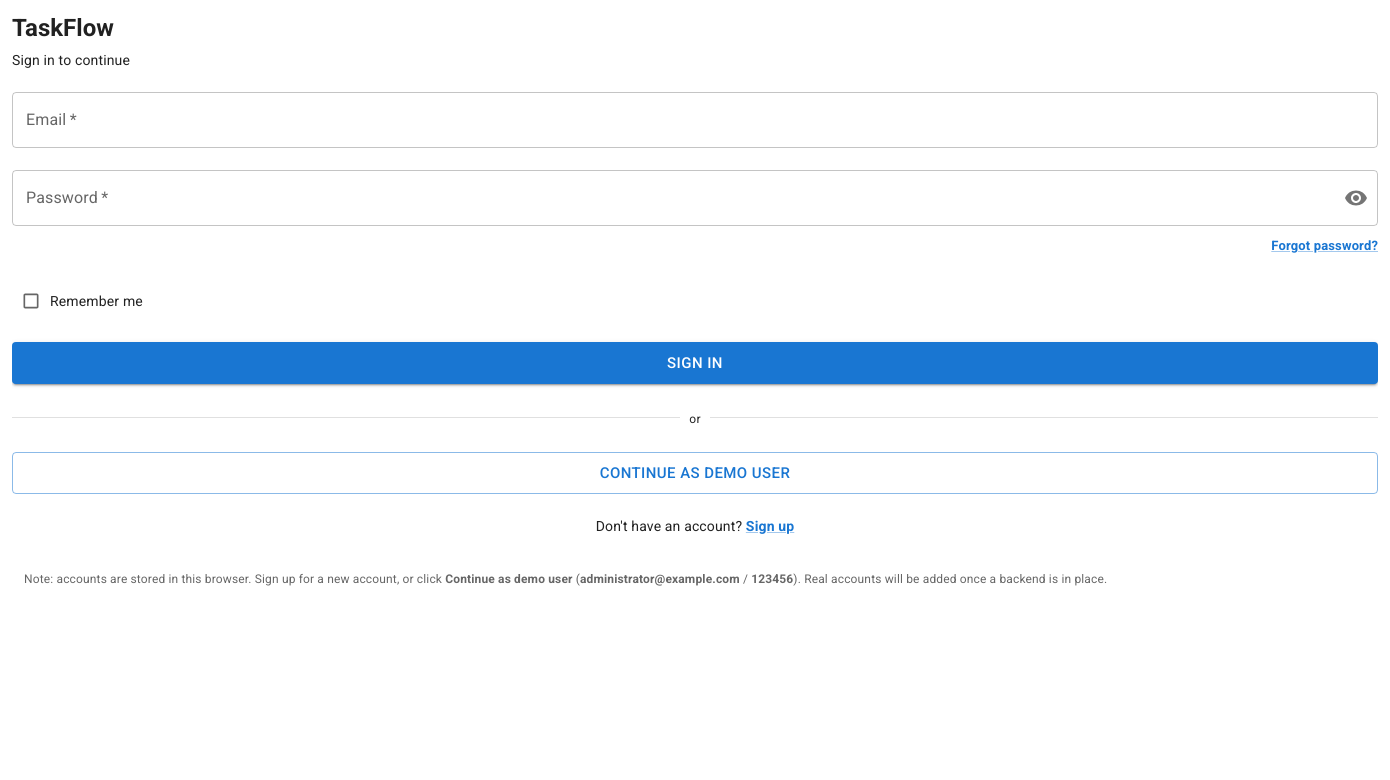
it: LoginForm › shows an error and stays on the page when the password is wrong
Type "administrator@example.com" into the field with test id "login-form-email" at (695, 120), box left=12, top=92, right=1378, bottom=148
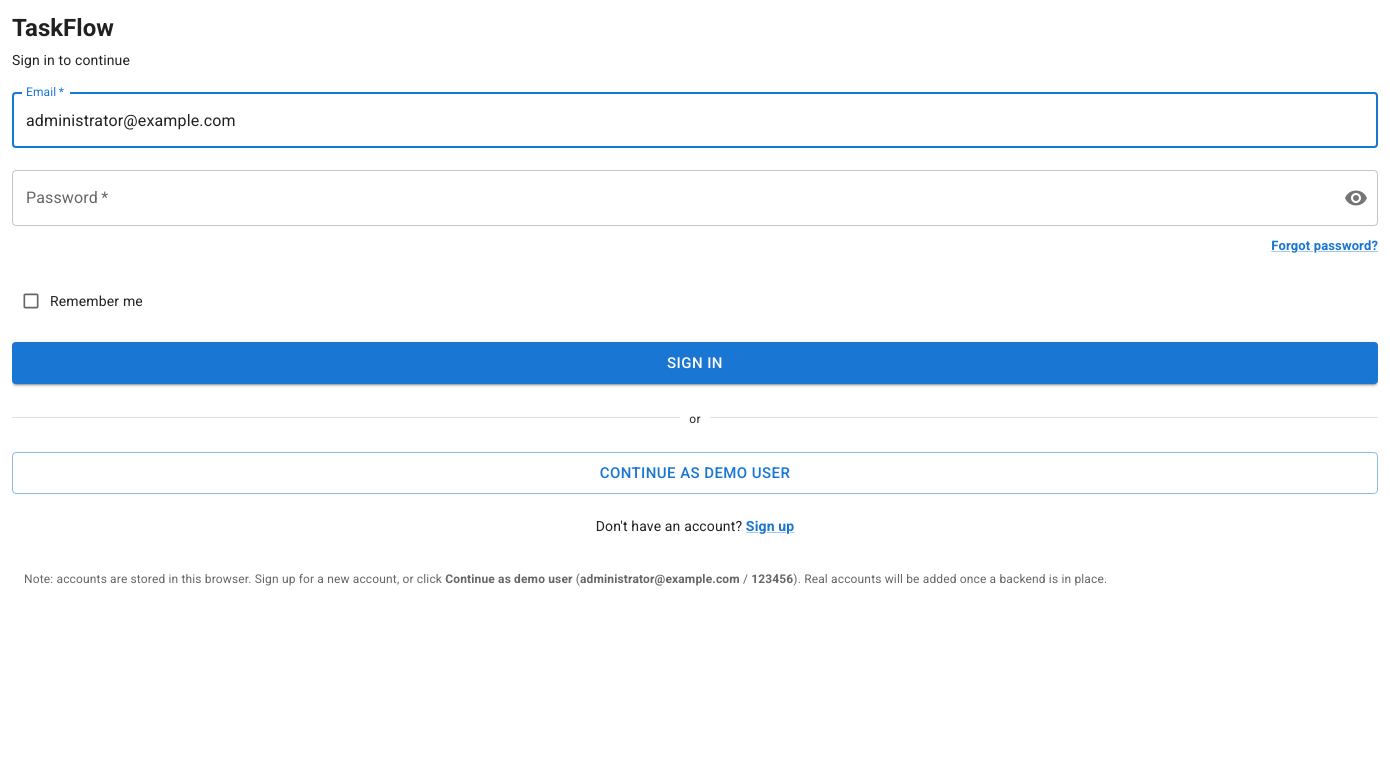
Type "wrong-password" into the password field with test id "login-form-password" at (670, 198), box left=12, top=170, right=1328, bottom=226
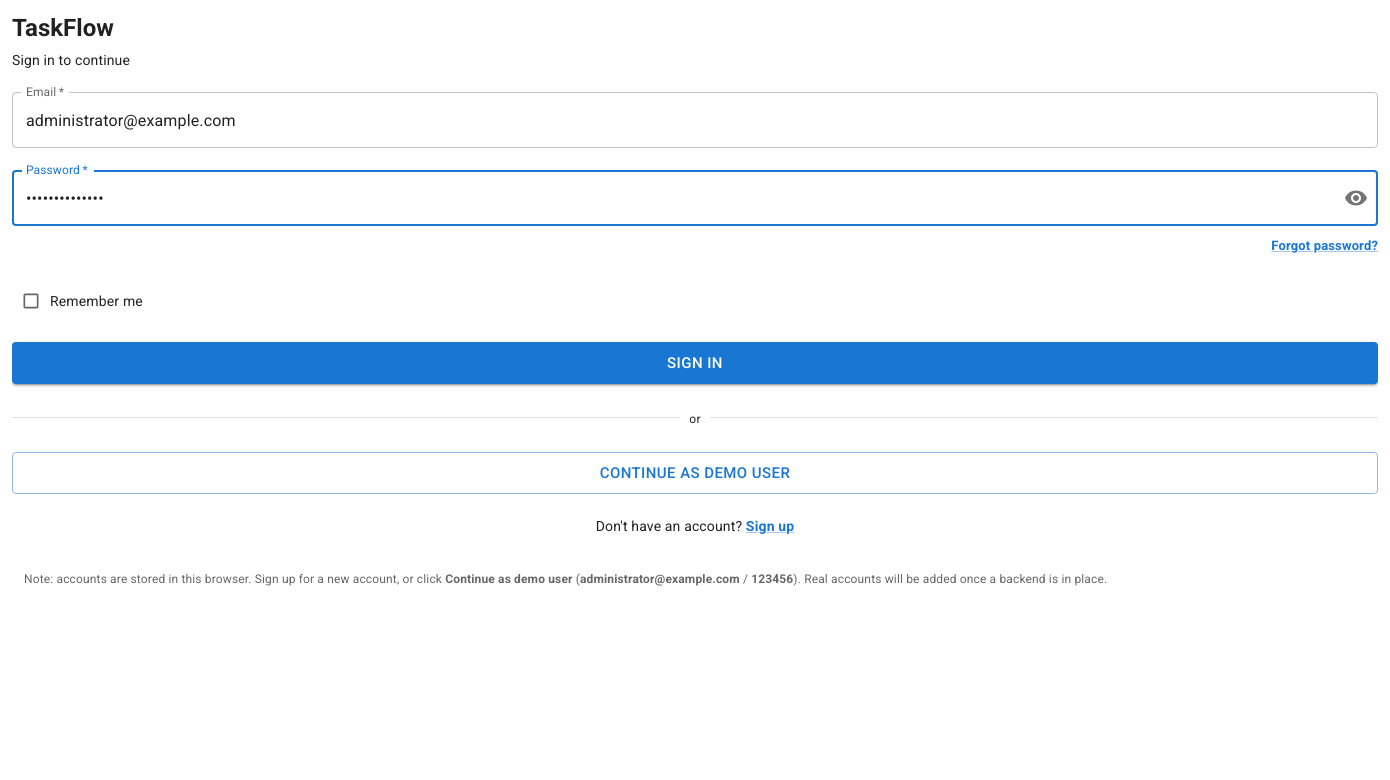
Click the button with test id "login-form-submit" at (695, 363), box left=12, top=342, right=1378, bottom=384
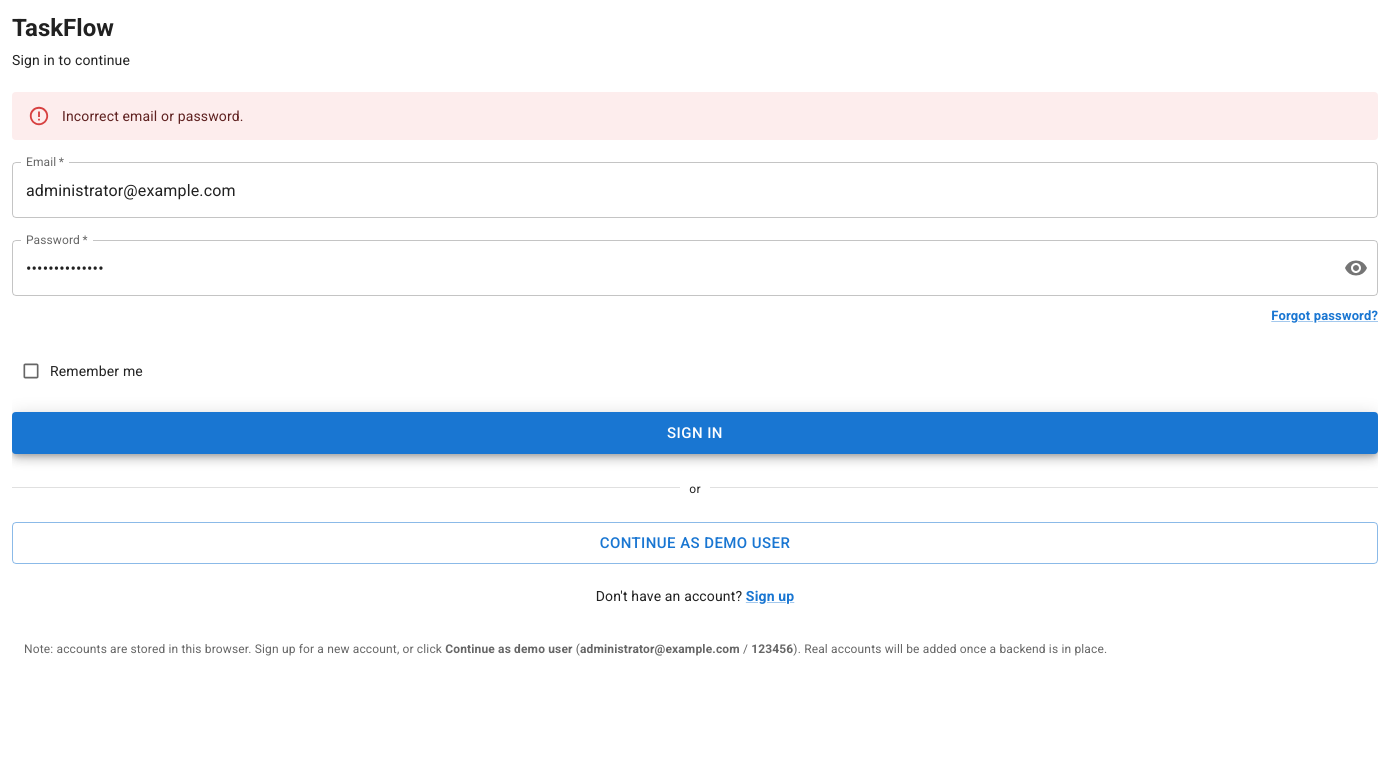
Expected: the message reads "Incorrect email or password.", left=62, top=108, right=244, bottom=124
